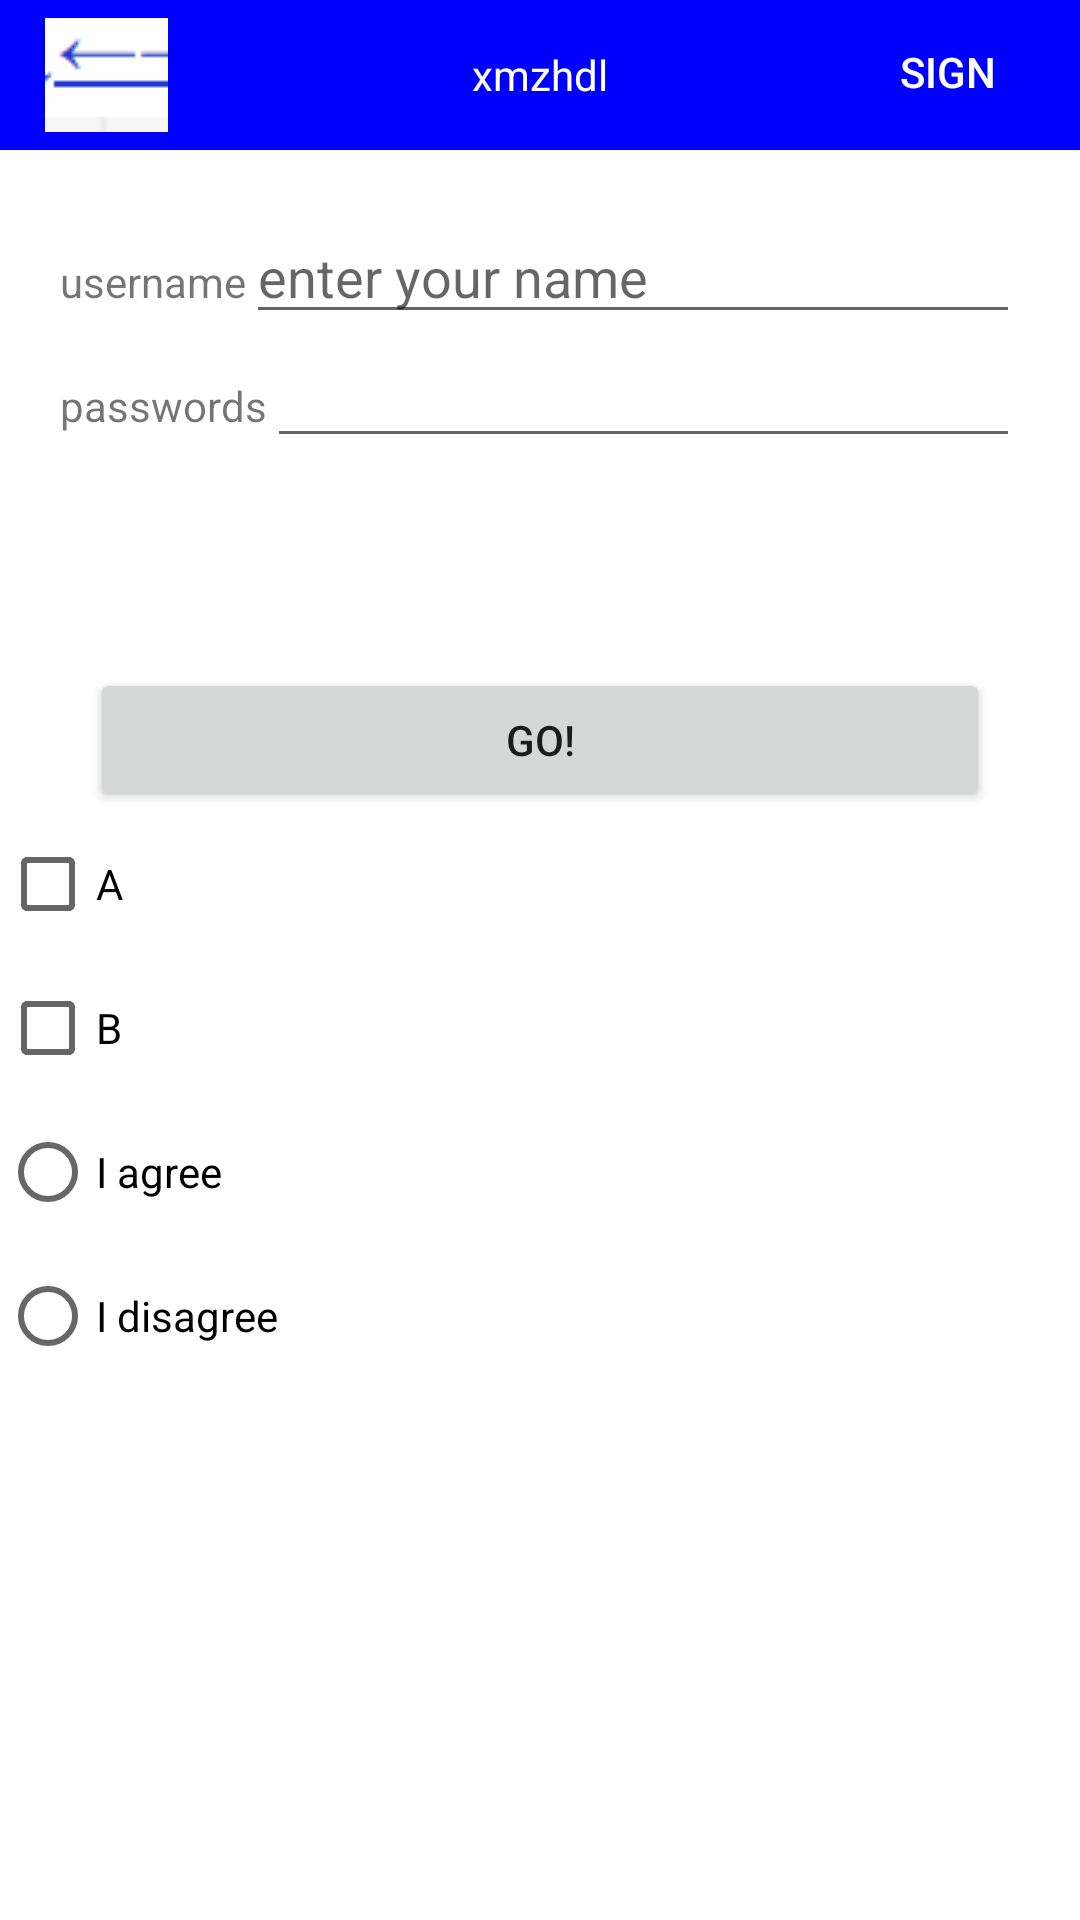

Where icons sit on this 1080px x 1920px app screen, as (left=x1, top=y1, right=x2, bottom=y2):
leftkey: (left=45, top=18, right=168, bottom=132)
